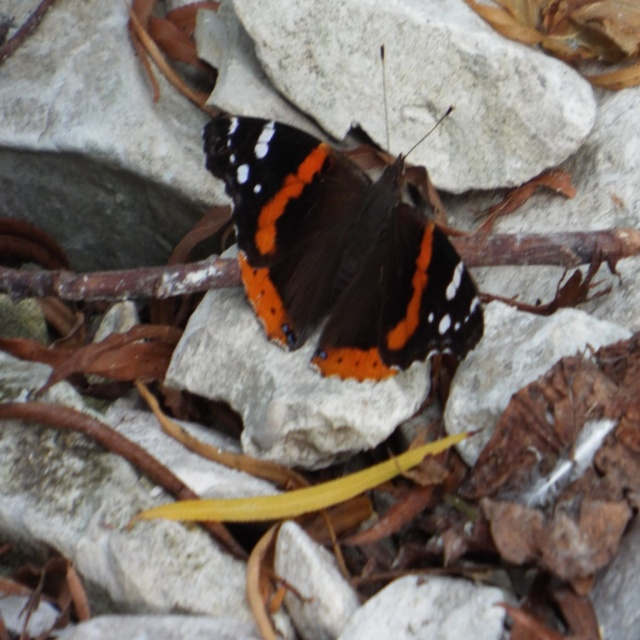Butterfly: (203, 75, 480, 414)
